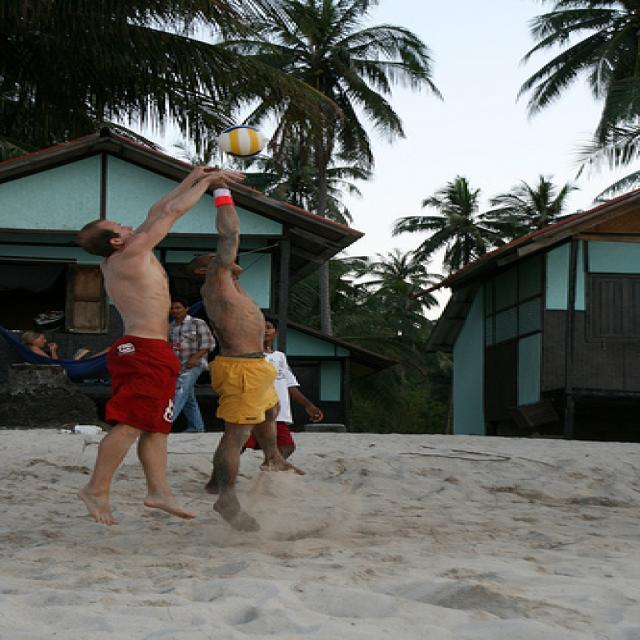volleyball: (220, 125, 264, 158)
